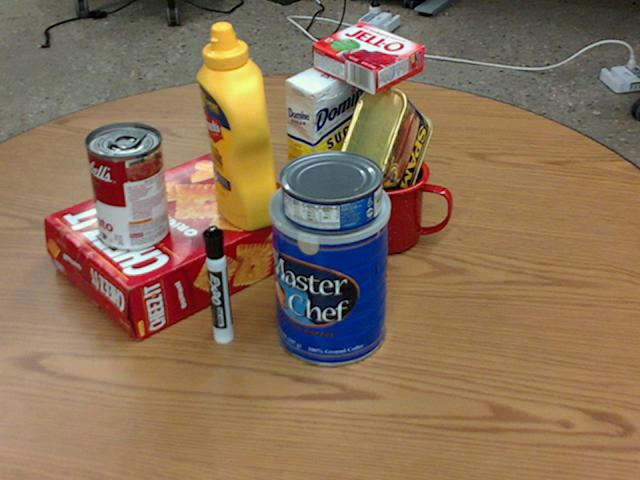cracker_box: (47, 152, 313, 341)
gelatin_box: (310, 22, 423, 94)
large_marker: (204, 226, 234, 343)
master_chef_can: (266, 170, 387, 364)
mug: (342, 148, 454, 254)
mustard_bottle: (195, 22, 280, 229)
potted_meat_can: (337, 85, 430, 205)
sugar_box: (285, 52, 372, 237)
tomato_soup_can: (85, 122, 168, 250)
tuna_fish_can: (278, 149, 382, 232)
